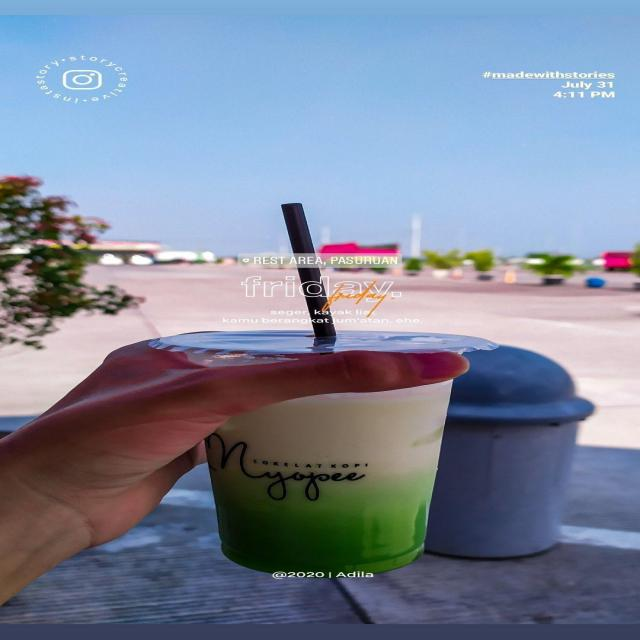cup-disposable: (152, 326, 501, 579)
